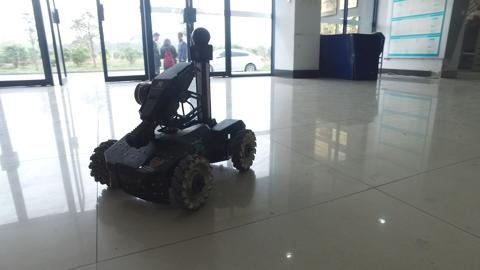chariot: (84, 22, 269, 211)
